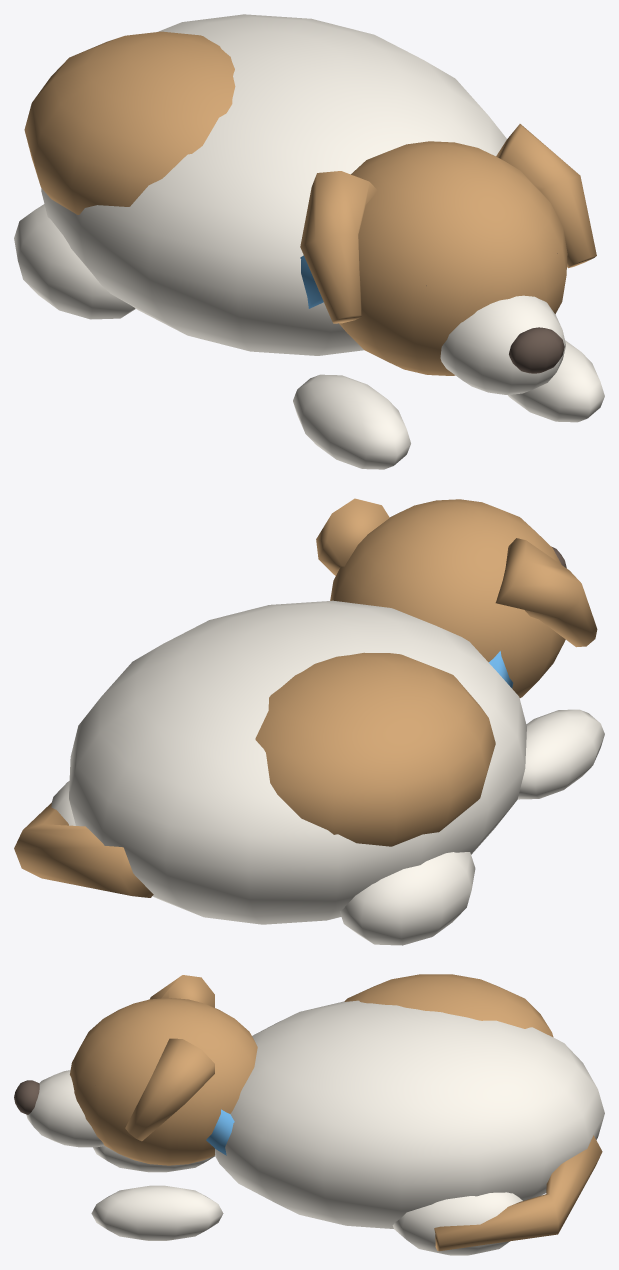
The model's file is askal_rest.glb.
The picture shows the model from 3 angles, top to bottom: view 1: azimuth 30°, elevation 25°; view 2: azimuth 150°, elevation 25°; view 3: azimuth 270°, elevation 25°; orthographic projection. The views are drawn at different scales.
Visible parts, largest first — view 1: Batch_AskalSpotWhite, Batch_AskalSpotBrown, Batch_AskalDark; view 2: Batch_AskalSpotWhite, Batch_AskalSpotBrown; view 3: Batch_AskalSpotWhite, Batch_AskalSpotBrown, Batch_AskalDark, Batch_AskalCollarBlue.
Part boxes in pixels (bbox=[...]): Batch_AskalSpotWhite: bbox=[14, 14, 604, 469]; Batch_AskalSpotBrown: bbox=[24, 31, 596, 375]; Batch_AskalDark: bbox=[426, 253, 564, 373]; Batch_AskalSpotWhite: bbox=[51, 600, 604, 945]; Batch_AskalSpotBrown: bbox=[14, 498, 597, 897]; Batch_AskalSpotWhite: bbox=[26, 1000, 604, 1255]; Batch_AskalSpotBrown: bbox=[70, 974, 602, 1251]; Batch_AskalDark: bbox=[14, 1080, 39, 1114]; Batch_AskalCollarBlue: bbox=[206, 1109, 234, 1155].
Bounding box in the file's own units: 0.6221 × 0.3792 × 1.02.
